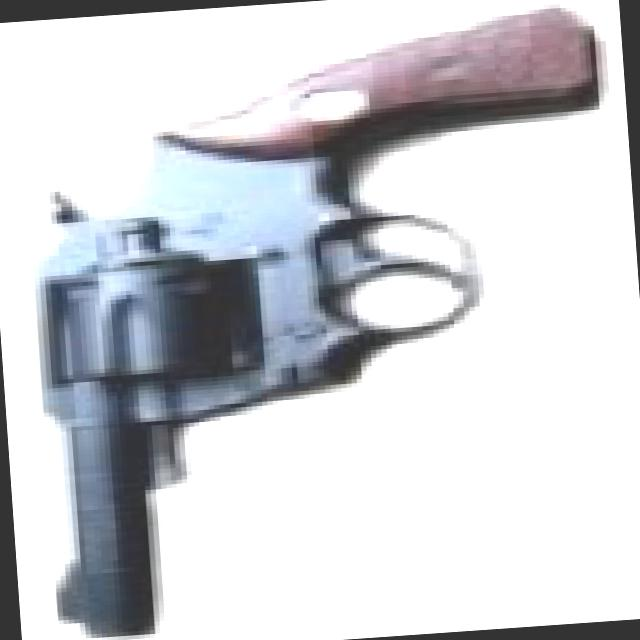handgun: (7, 4, 634, 639)
